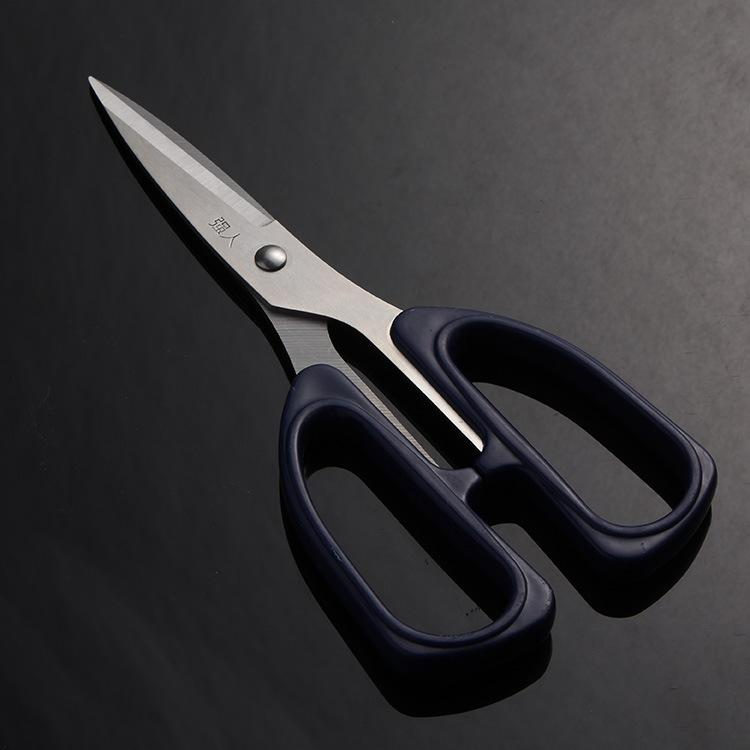scissor: (55, 33, 690, 670)
